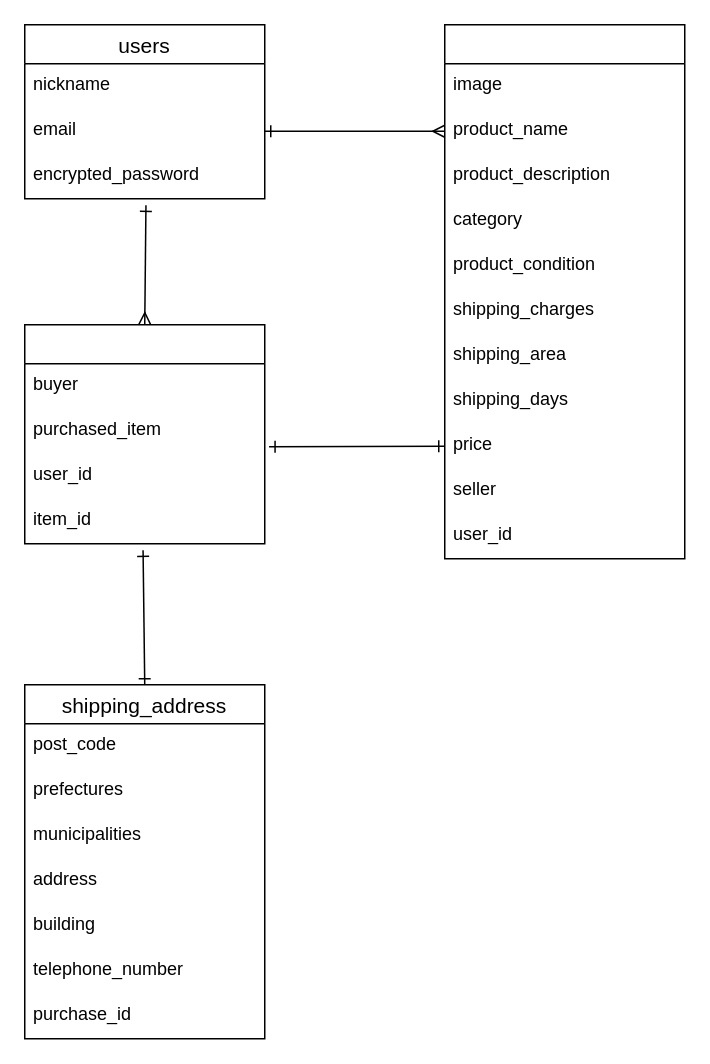
The diagram is 710 pixels wide and 1064 high, and some of its shapes have lost their labels. The shapes that lost their labels are listed below. From the top down, each one's box as (x1, y1, x2, y2) in pixels, then its label:
(443, 23, 685, 559): items
(23, 323, 265, 544): purchases
